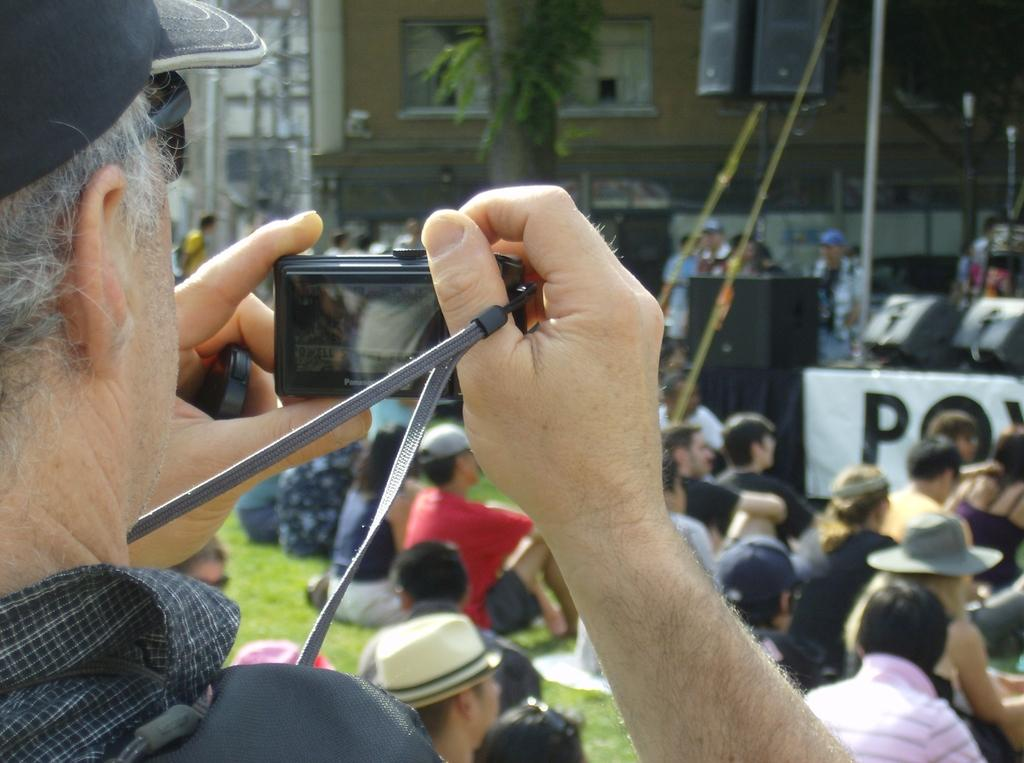Hat: (0, 0, 272, 193), (374, 612, 505, 704), (862, 509, 1002, 577), (416, 423, 473, 462), (813, 228, 842, 245), (700, 214, 722, 227)
